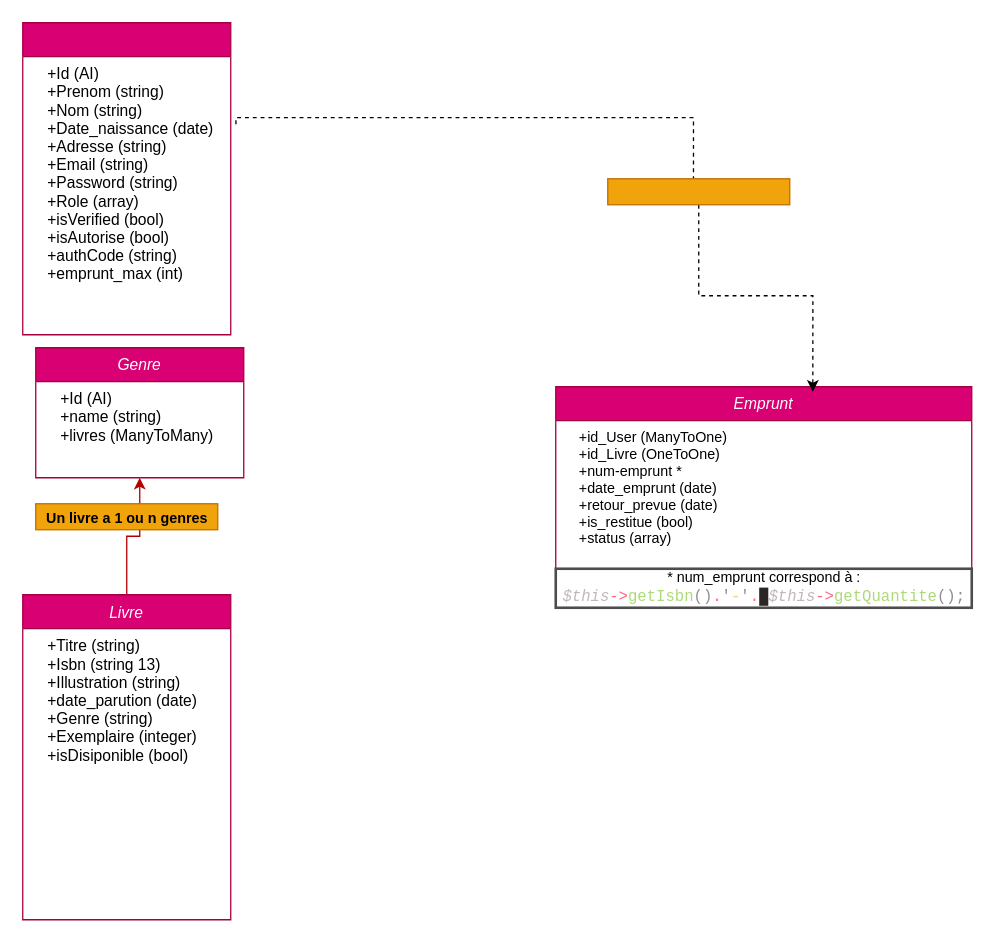
The diagram is 996 pixels wide and 942 high, and some of its shapes have lost their labels. The shapes that lost their labels are listed below. From the top down, each one's box as (x1, y1, x2, y2) in pixels, then its label:
(21, 21, 231, 335): User
(606, 177, 790, 205): Fais 1 ou n emprunt
